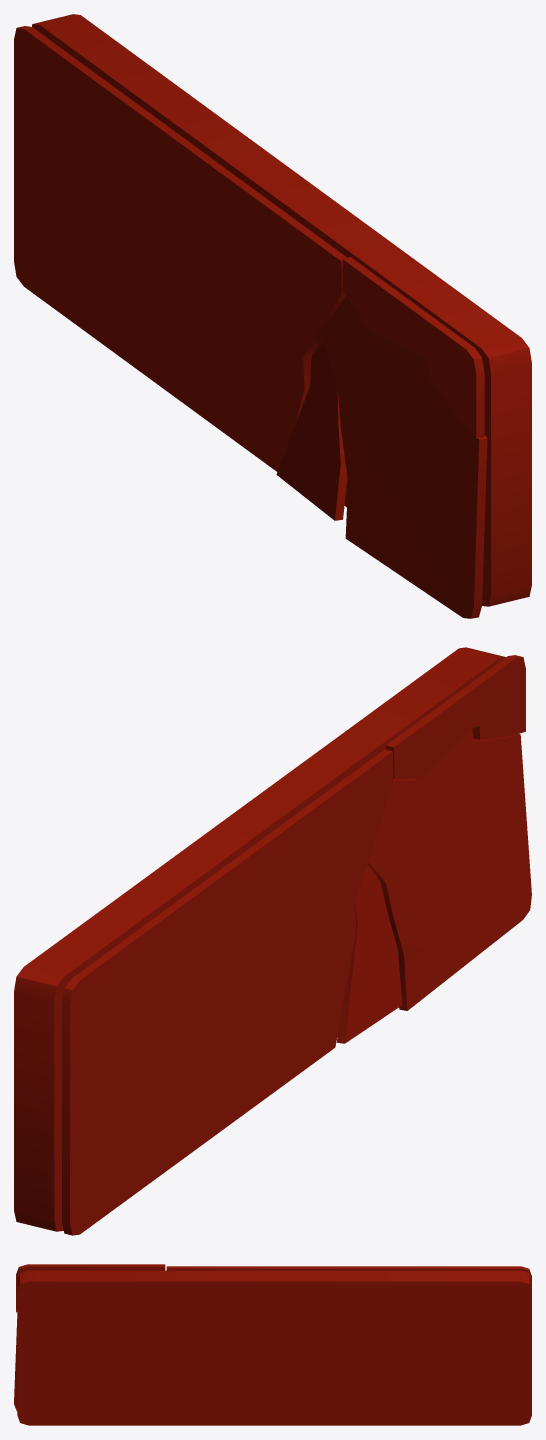
Rendered from SM_Panneau_large2.fbx.
The picture shows the model from 3 angles, top to bottom: view 1: azimuth 30°, elevation 25°; view 2: azimuth 150°, elevation 25°; view 3: azimuth 270°, elevation 25°; orthographic projection. The views are drawn at different scales.
Visible parts, largest first — view 1: Panneau_large2; view 2: Panneau_large2; view 3: Panneau_large2.
Part boxes in pixels (box(x1,y1,x2,y2)): Panneau_large2: box(14, 14, 531, 618); Panneau_large2: box(14, 647, 531, 1235); Panneau_large2: box(14, 1264, 531, 1425).
Bounding box in the file's own units: 12.28 × 49.2 × 152.
